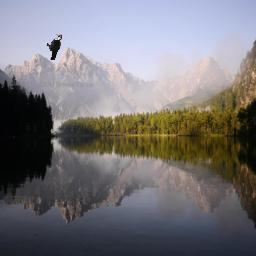Woodpecker: (46, 34, 62, 60)
